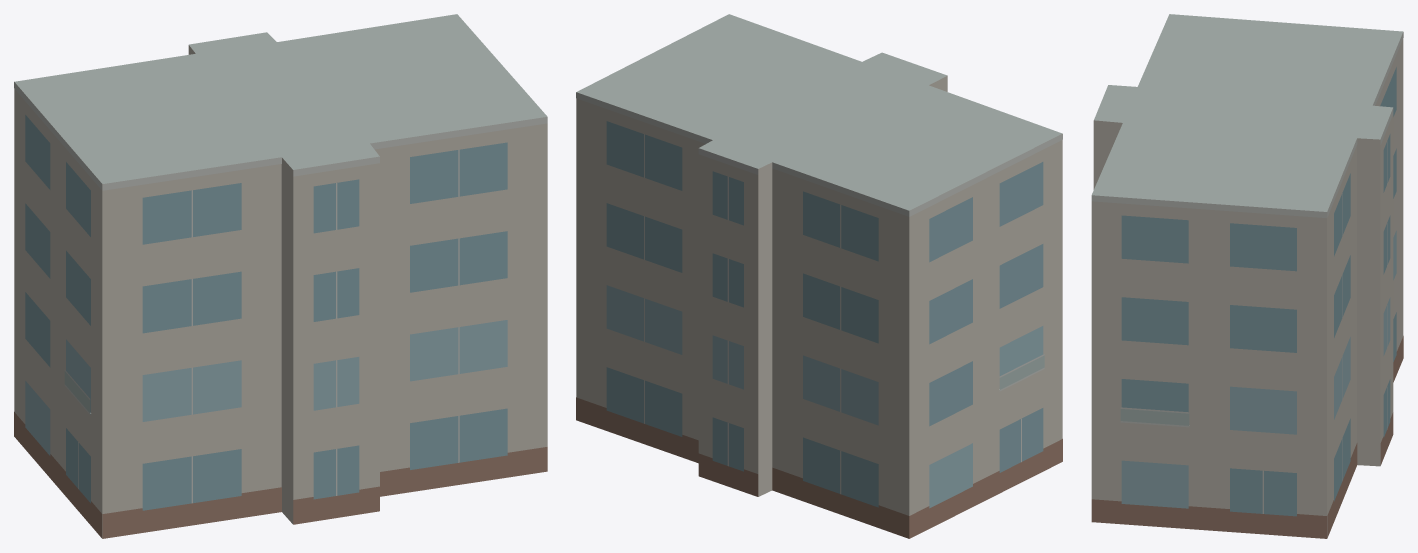
Rendered from survey-upis-32704119.glb.
3 views of the same model, side by side, from view 1: azimuth 30°, elevation 25°; view 2: azimuth 150°, elevation 25°; view 3: azimuth 270°, elevation 25° (orthographic). The views are drawn at different scales.
Parts seen in each view (by area): view 1: survey-upis-32704119.tmp; view 2: survey-upis-32704119.tmp; view 3: survey-upis-32704119.tmp.
Boxes of the visible parts, bbox=[...] form: survey-upis-32704119.tmp: bbox=[14, 14, 547, 538]; survey-upis-32704119.tmp: bbox=[576, 14, 1062, 538]; survey-upis-32704119.tmp: bbox=[1091, 14, 1403, 538].
Size of the model in its own units: 16.9 by 13 by 11.26.
